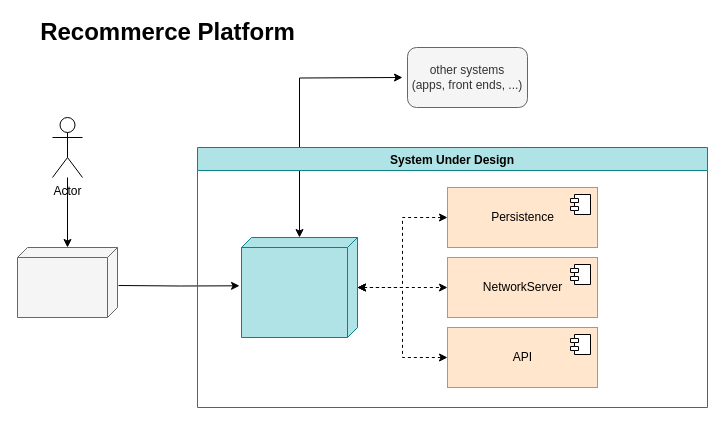
Some shapes in this 725 by 425 pixel diagram are drawn without their labels. Here are the shapes that lost their labels. From the top down, the centre of each, then its label:
the point at 67,282: json file transmitter
the point at 299,287: RCP
